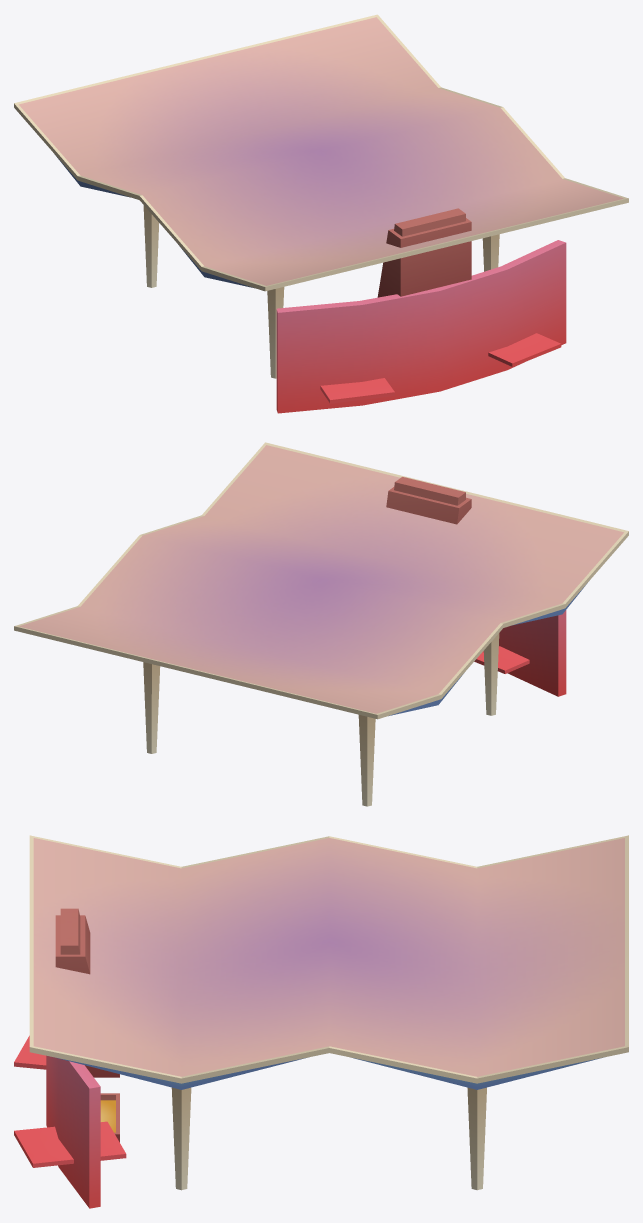
Rendered from SM_CementPublicSpace.fbx.
3 views of the same model, one above another, from view 1: azimuth 30°, elevation 25°; view 2: azimuth 150°, elevation 25°; view 3: azimuth 270°, elevation 25° (orthographic). The views are drawn at different scales.
Visible parts, largest first — view 1: SM_CementPublicSpace; view 2: SM_CementPublicSpace; view 3: SM_CementPublicSpace.
Part boxes in pixels (x1,y1,x2,y2): SM_CementPublicSpace: (14, 14, 628, 413); SM_CementPublicSpace: (14, 442, 628, 806); SM_CementPublicSpace: (14, 835, 628, 1208).
Bounding box in the file's own units: 11.82 × 14.51 × 5.14.
